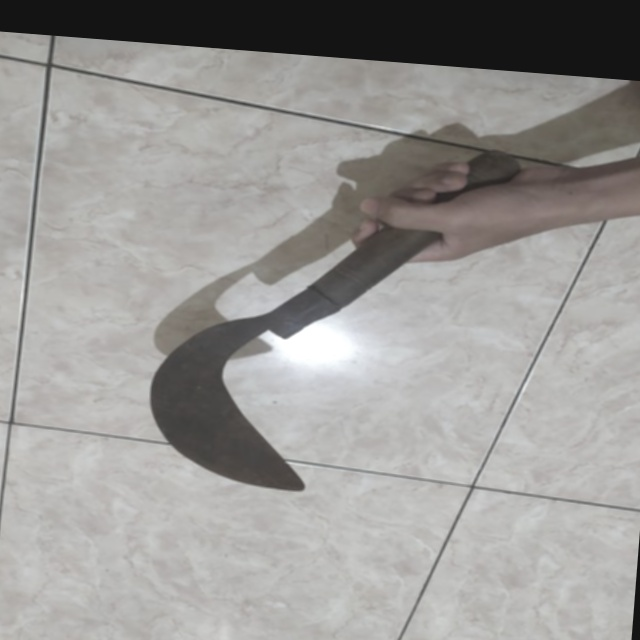Sharp-Object: (130, 118, 530, 518)
